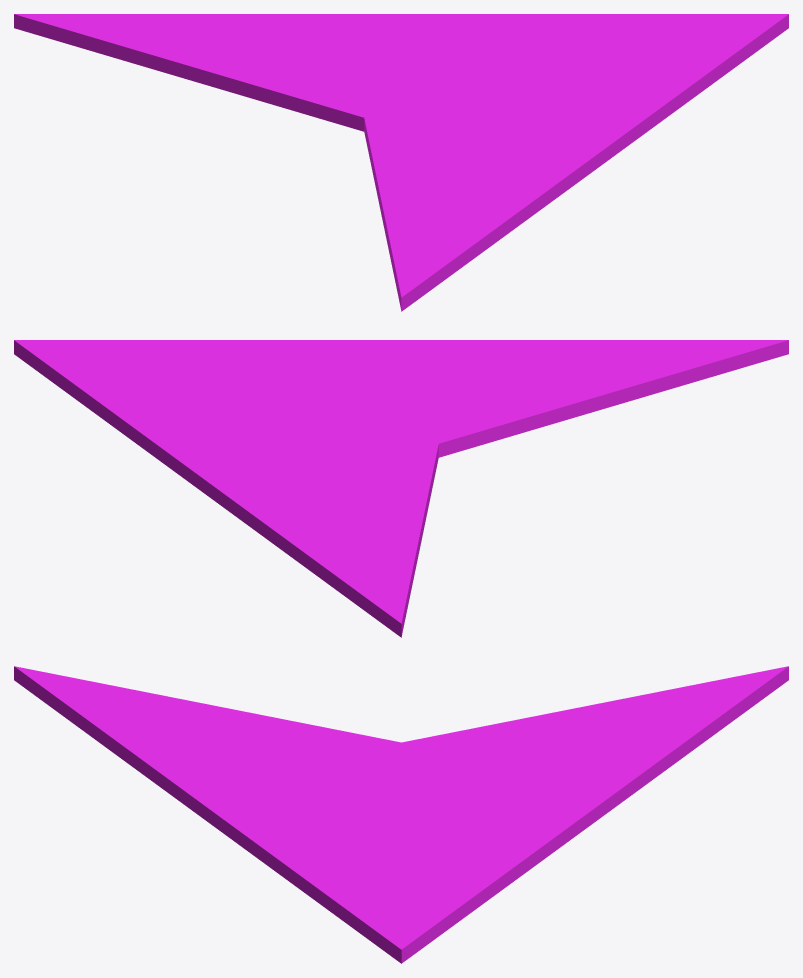
Rendered from direction_arrow.glb.
3 views of the same model, one above another, from view 1: azimuth 30°, elevation 25°; view 2: azimuth 150°, elevation 25°; view 3: azimuth 270°, elevation 25° (orthographic).
Parts seen in each view (by area): view 1: Part 1; view 2: Part 1; view 3: Part 1.
Boxes of the visible parts, box(x1,y1,x2,y2) form: Part 1: box(14, 14, 788, 311); Part 1: box(14, 340, 788, 637); Part 1: box(14, 666, 788, 963).
Size of the model in its own units: 4.33 by 0.1 by 5.
